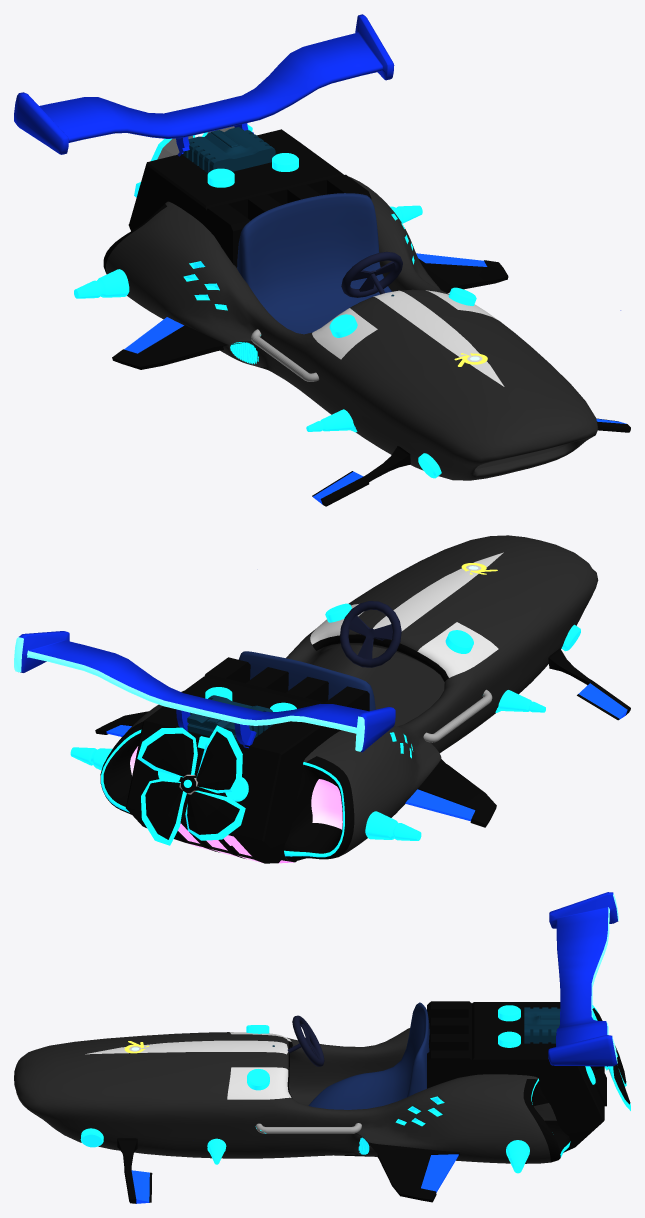
Rendered from chasis.fbx.
3 views of the same model, one above another, from view 1: azimuth 30°, elevation 25°; view 2: azimuth 150°, elevation 25°; view 3: azimuth 270°, elevation 25° (orthographic). The views are drawn at different scales.
Visible parts, largest first — view 1: pCube6_blanco_0.002, MOD_GoKart.mo_MAT_GoKart_Fender_0.003, pCube2_silla_0.002, pCube9_metal_2_0.003, pCube8_metal_2_0.002, scroef.005, pCube11_metal_2_0.003, scroef.006, pTorus1_NEUMATICO_0.002, scroef.003, pCone2_metal_0.002, pCube10_metal_0.004 (+2 smaller); view 2: pCube6_blanco_0.002, pCube9_metal_2_0.003, MOD_GoKart.mo_MAT_GoKart_Fender_0.003, scroef.001, pCube8_metal_2_0.002, scroef.005, pTorus1_NEUMATICO_0.002, pCube2_silla_0.002, pCone2_metal_0.002, scroef.003, pCube11_metal_2_0.003, pTorus4_metal_0.002 (+5 smaller); view 3: pCube6_blanco_0.002, MOD_GoKart.mo_MAT_GoKart_Fender_0.003, pCube9_metal_2_0.003, pCube2_silla_0.002, pCube8_metal_2_0.002, scroef.006, scroef.004, pCube11_metal_2_0.003, pTorus1_NEUMATICO_0.002, pTorus4_metal_0.002, scroef.001, pCube10_metal_0.004 (+1 smaller).
Part boxes in pixels (x1,y1,x2,y2): pCube6_blanco_0.002: (103, 176, 598, 480); MOD_GoKart.mo_MAT_GoKart_Fender_0.003: (14, 14, 620, 310); pCube2_silla_0.002: (237, 193, 391, 334); pCube9_metal_2_0.003: (128, 129, 343, 231); pCube8_metal_2_0.002: (206, 174, 371, 267); scroef.005: (112, 317, 245, 369); pCube11_metal_2_0.003: (183, 127, 275, 173); scroef.006: (416, 253, 508, 292); pTorus1_NEUMATICO_0.002: (341, 251, 402, 297); scroef.003: (312, 446, 410, 506); pCone2_metal_0.002: (74, 205, 422, 298); pCube10_metal_0.004: (207, 153, 298, 187); pCube6_blanco_0.002: (100, 535, 598, 861); pCube9_metal_2_0.003: (125, 676, 340, 863); MOD_GoKart.mo_MAT_GoKart_Fender_0.003: (14, 631, 395, 752); scroef.001: (137, 725, 245, 845); pCube8_metal_2_0.002: (204, 657, 369, 711); scroef.005: (405, 759, 496, 827); pTorus1_NEUMATICO_0.002: (340, 601, 401, 667); pCube2_silla_0.002: (238, 651, 375, 710); pCone2_metal_0.002: (70, 747, 421, 840); scroef.003: (548, 648, 630, 720); pCube11_metal_2_0.003: (187, 695, 273, 743); pTorus4_metal_0.002: (423, 689, 492, 742); pCube6_blanco_0.002: (14, 1028, 570, 1163); MOD_GoKart.mo_MAT_GoKart_Fender_0.003: (548, 892, 618, 1066); pCube9_metal_2_0.003: (334, 1002, 606, 1156); pCube2_silla_0.002: (308, 1002, 429, 1109); pCube8_metal_2_0.002: (427, 1001, 471, 1088); scroef.006: (367, 1142, 459, 1202); scroef.004: (117, 1138, 152, 1203); pCube11_metal_2_0.003: (524, 1007, 560, 1043); pTorus1_NEUMATICO_0.002: (287, 1015, 324, 1066); pTorus4_metal_0.002: (255, 1123, 361, 1133); scroef.001: (592, 1005, 630, 1110); pCube10_metal_0.004: (498, 1005, 520, 1047).
Bounding box in the file's own units: 153 × 80.23 × 250.
